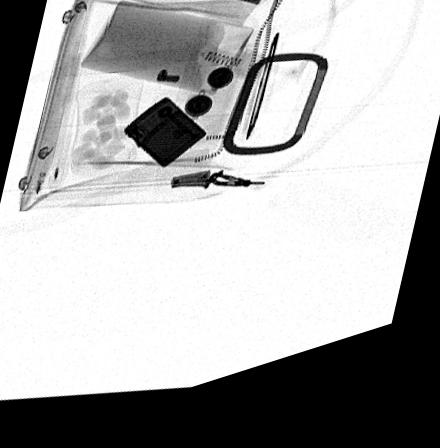Lighter: (122, 105, 207, 179)
